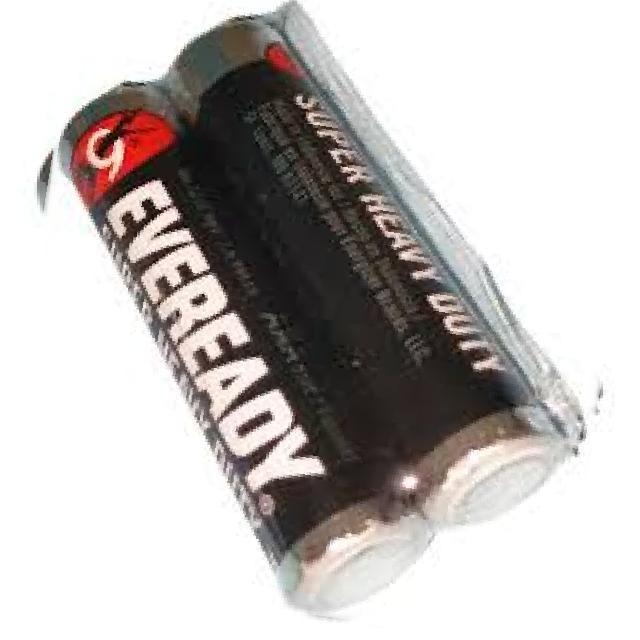Battery: (163, 12, 570, 532), (57, 79, 439, 618)
